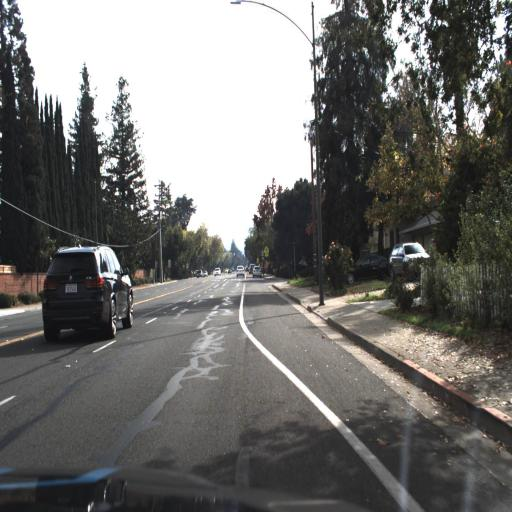car: (35, 235, 136, 344), (386, 239, 434, 281), (386, 241, 430, 282), (347, 251, 391, 288), (234, 262, 248, 281), (250, 263, 264, 279)
